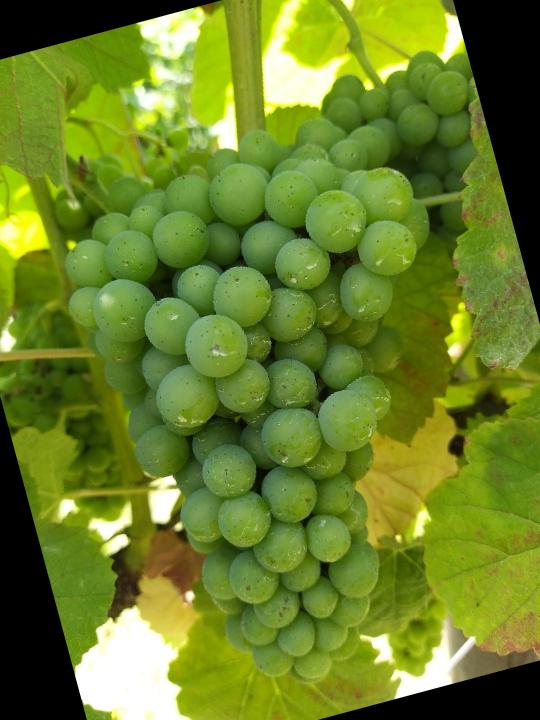grape: (38, 92, 540, 720)
